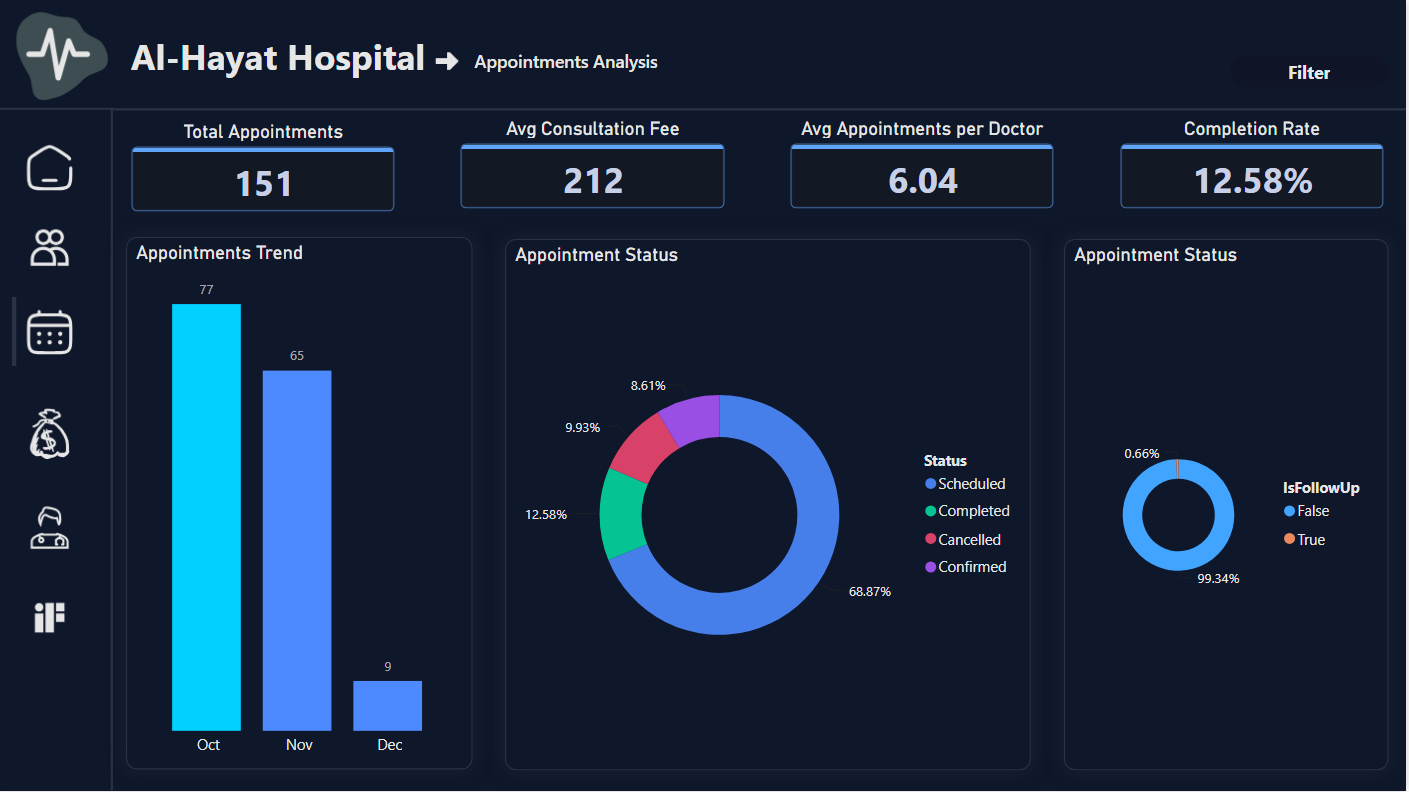

What the dashboard file says about the page in this screenshot:
{"tool":"powerbi","page":{"name":"Appointments Analysis","canvas":[1280,720],"ordinal":2},"visuals":[{"type":"shape","box":[105.8,74.2,1174.5,51.8],"z":0},{"type":"shape","box":[90,100.1,27,619.9],"z":1000},{"type":"shape","box":[0,88.9,105.8,21.4],"z":2000},{"type":"shape","box":[102.5,21.4,303.8,58.5],"z":3000},{"type":"actionButton","box":[4.8,0,100.4,100.4],"z":4000},{"type":"actionButton","box":[20.2,126,57.4,54],"z":5000},{"type":"actionButton","box":[20.2,198,57.4,54],"z":6000},{"type":"actionButton","box":[20.2,275.6,57.4,54],"z":7000},{"type":"actionButton","box":[20.2,367.9,57.4,54],"z":8000},{"type":"actionButton","box":[20.2,454.5,57.4,54],"z":9000},{"type":"actionButton","box":[20.2,535.5,57.4,54],"z":10000},{"type":"shape","box":[0,271.1,29.2,63],"z":11000},{"type":"actionButton","box":[393.9,41.6,247.5,29.2],"z":12000},{"type":"columnChart","title":"Appointments Trend","fields":{"Category":["Calendar.Month"],"Y":["CountNonNull(Appointments.AppointmentTime)"]},"box":[116.1,216.6,314.6,483.9],"z":13000},{"type":"donutChart","title":"Appointment Status","fields":{"Category":["Appointments.Status"],"Y":["Measure.Total Appointments"]},"box":[460.9,217.8,477.9,482.7],"z":14000},{"type":"donutChart","title":"Appointment Status","fields":{"Category":["Appointments.IsFollowUp"],"Y":["CountNonNull(Appointments.AppointmentId)"]},"box":[969.1,217.8,295.2,482.7],"z":19000},{"type":"cardVisual","title":"Total Appointments","fields":{"Data":["Measure.Total Appointments"]},"box":[116.1,110.1,249.2,88.3],"z":21000},{"type":"cardVisual","title":"Avg Consultation Fee","fields":{"Data":["Measure.Average Consultation Fee"]},"box":[415.4,107.7,250.4,88.3],"z":22000},{"type":"cardVisual","title":"Avg Appointments per Doctor","fields":{"Data":["Measure.Average Appointments per Doctor"]},"box":[715.8,107.7,249.2,88.3],"z":23000},{"type":"cardVisual","title":"Completion Rate","fields":{"Data":["Measure.Appointment Completion Rate"]},"box":[1015,107.7,249.2,88.3],"z":24000},{"type":"actionButton","box":[1120.3,50.8,144,29],"z":25000}]}

Visuals, with their boxes in screenshot pixels (x1, y1, x2, y2), scaled from the page's 1280x720 canvas onto the 1409x792 screenshot:
shape: [left=116, top=82, right=1408, bottom=139]
shape: [left=99, top=110, right=129, bottom=791]
shape: [left=0, top=98, right=116, bottom=121]
shape: [left=113, top=24, right=447, bottom=88]
actionButton: [left=5, top=0, right=116, bottom=110]
actionButton: [left=22, top=139, right=85, bottom=198]
actionButton: [left=22, top=218, right=85, bottom=277]
actionButton: [left=22, top=303, right=85, bottom=363]
actionButton: [left=22, top=405, right=85, bottom=464]
actionButton: [left=22, top=500, right=85, bottom=559]
actionButton: [left=22, top=589, right=85, bottom=648]
shape: [left=0, top=298, right=32, bottom=368]
actionButton: [left=434, top=46, right=706, bottom=78]
"Appointments Trend" columnChart: [left=128, top=238, right=474, bottom=771]
"Appointment Status" donutChart: [left=507, top=240, right=1033, bottom=771]
"Appointment Status" donutChart: [left=1067, top=240, right=1392, bottom=771]
"Total Appointments" cardVisual: [left=128, top=121, right=402, bottom=218]
"Avg Consultation Fee" cardVisual: [left=457, top=118, right=733, bottom=216]
"Avg Appointments per Doctor" cardVisual: [left=788, top=118, right=1062, bottom=216]
"Completion Rate" cardVisual: [left=1117, top=118, right=1392, bottom=216]
actionButton: [left=1233, top=56, right=1392, bottom=88]
